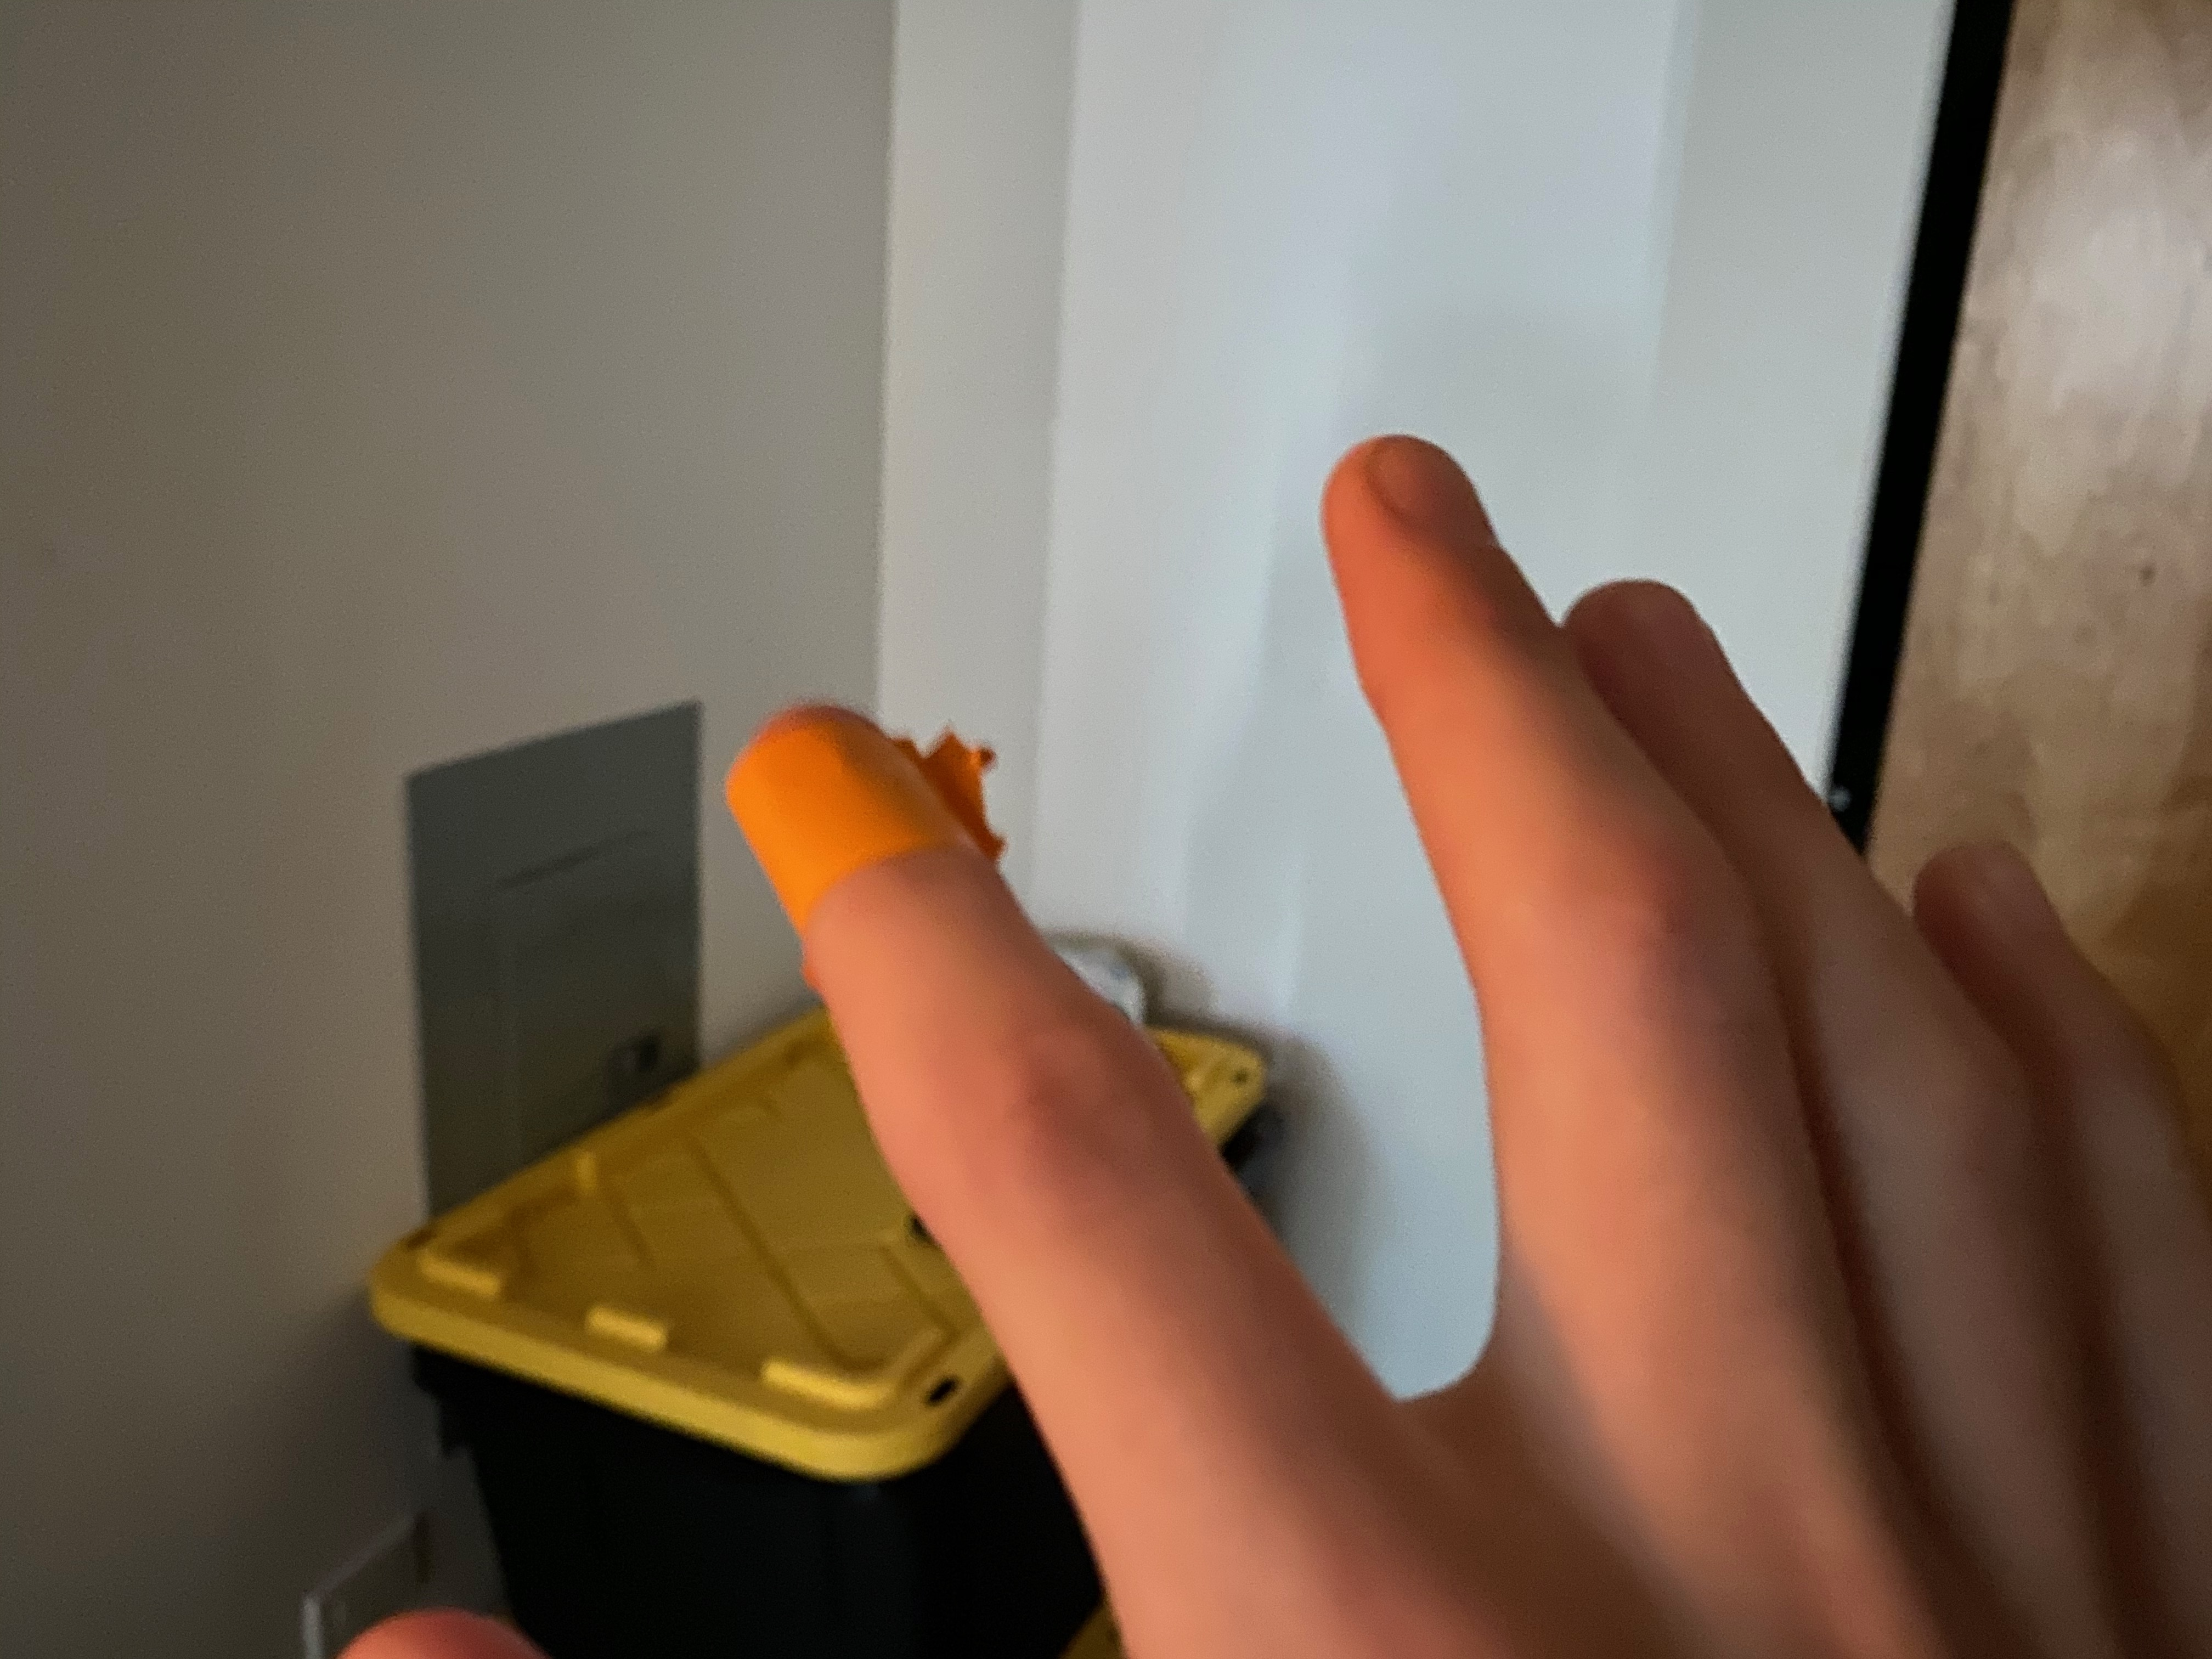fingertip: (676, 704, 1104, 1040)
